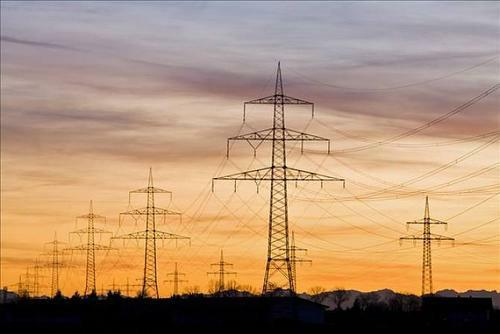power_tower: (211, 56, 349, 298), (113, 161, 197, 298), (395, 191, 463, 302), (66, 196, 122, 298), (38, 227, 78, 291), (161, 260, 197, 296), (209, 249, 241, 287)
